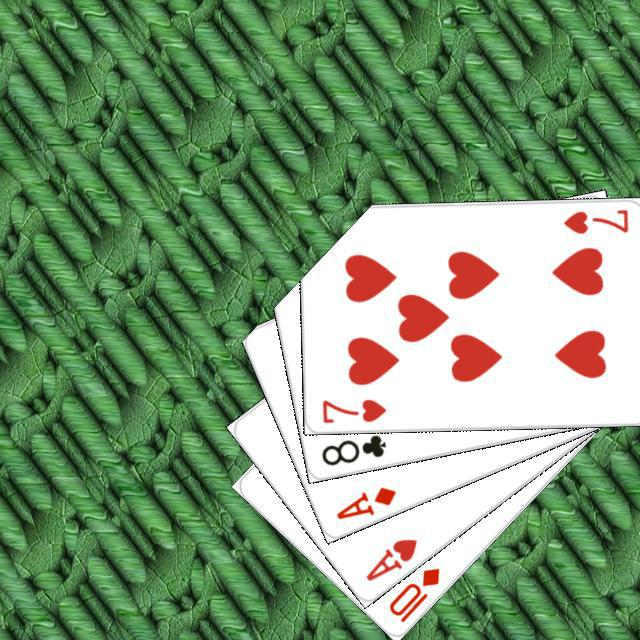10d: (383, 563, 442, 625)
7h: (317, 394, 388, 425), (559, 205, 630, 236)
8c: (316, 429, 388, 468)
Ad: (331, 481, 398, 522)
Ah: (361, 533, 419, 583)
